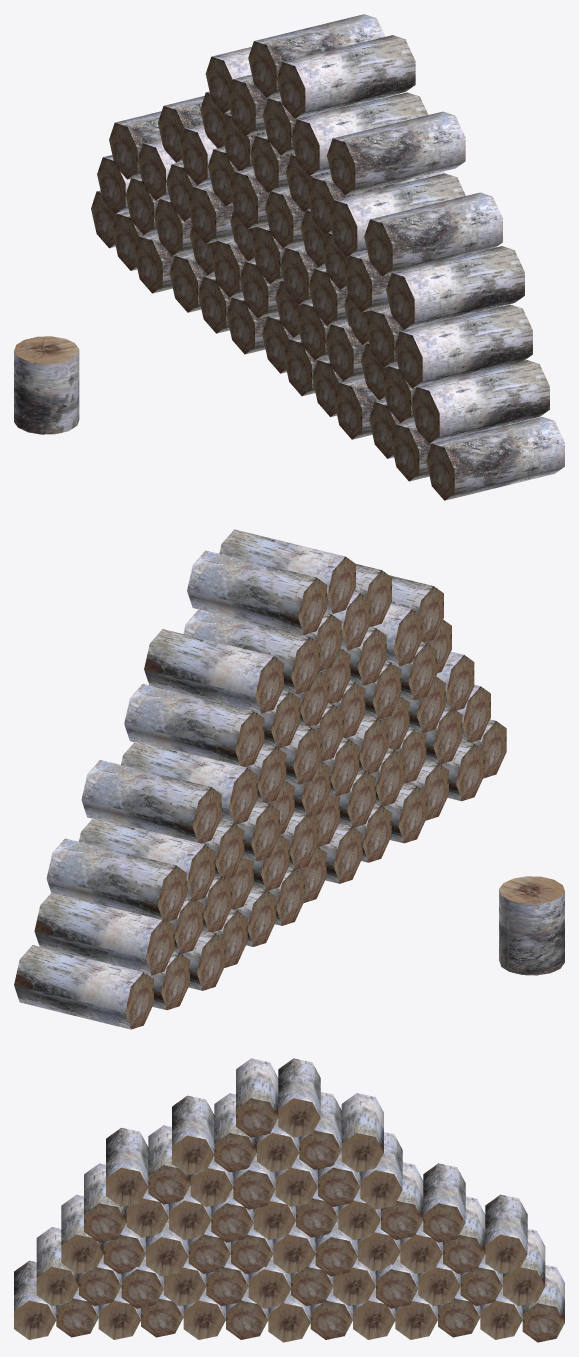
The model's file is Logwall.fbx.
3 views of the same model, one above another, from view 1: azimuth 30°, elevation 25°; view 2: azimuth 150°, elevation 25°; view 3: azimuth 270°, elevation 25° (orthographic). The views are drawn at different scales.
Visible parts, largest first — view 1: Logwall; view 2: Logwall; view 3: Logwall.
Part boxes in pixels (left/top/right/bottom): Logwall: left=14, top=14, right=564, bottom=500; Logwall: left=14, top=529, right=564, bottom=1029; Logwall: left=14, top=1058, right=564, bottom=1342.
Size of the model in its own units: 186 by 159 by 329.
